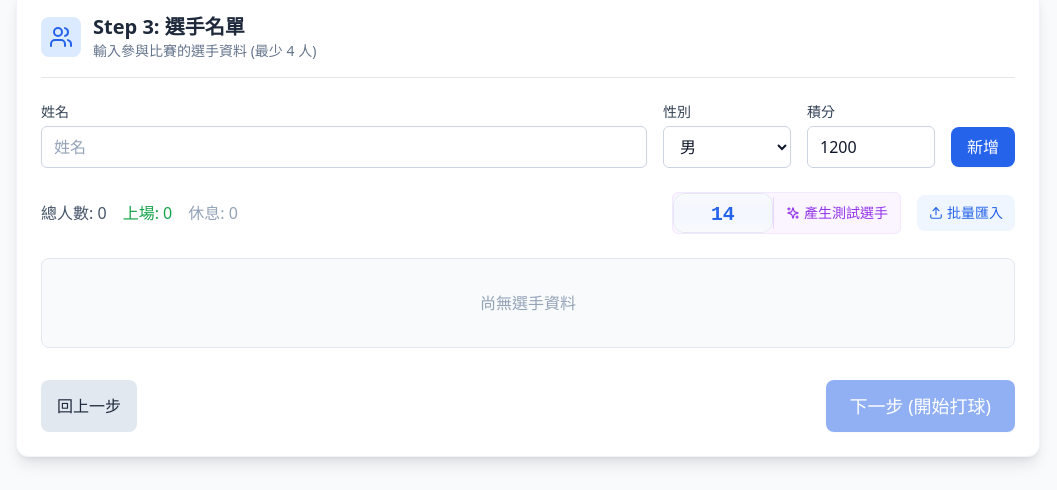
Test: PlayerListScreen › adds a player through the form and shows them in the roster table
(page scrolled)
Type "Alice" into the field with placeholder "姓名".
click(344, 147); type("Alice")  # box [41, 126, 647, 168]
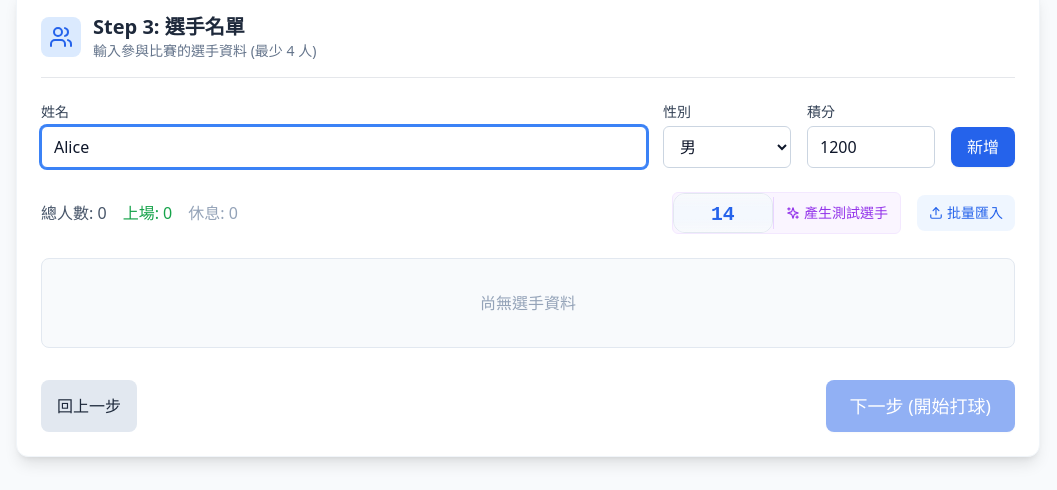
Click the button "新增".
click(983, 147)  # box [951, 127, 1015, 167]
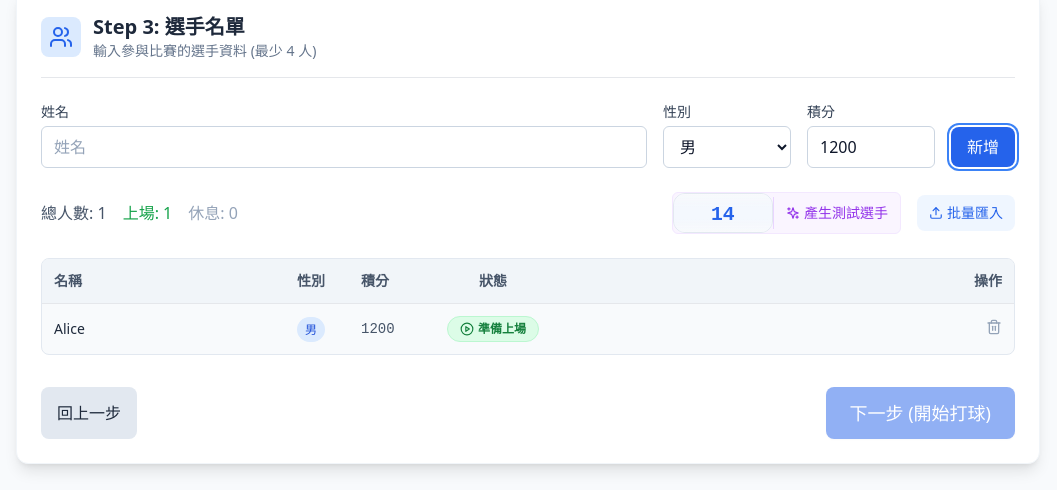
Now the text "Alice" is shown, box [42, 304, 285, 354]
Now the text "總人數: 1" is shown, box [41, 201, 107, 225]
